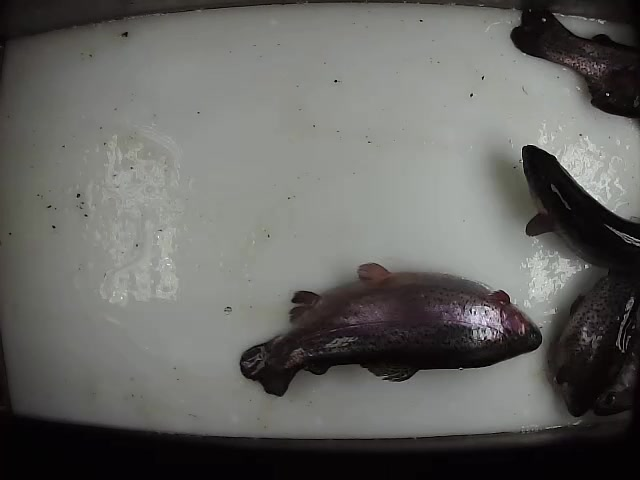fish: (237, 261, 545, 399), (518, 142, 640, 272), (510, 2, 637, 115)
